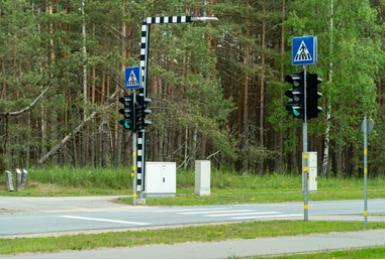green_light: (284, 73, 304, 119), (119, 95, 133, 129)
